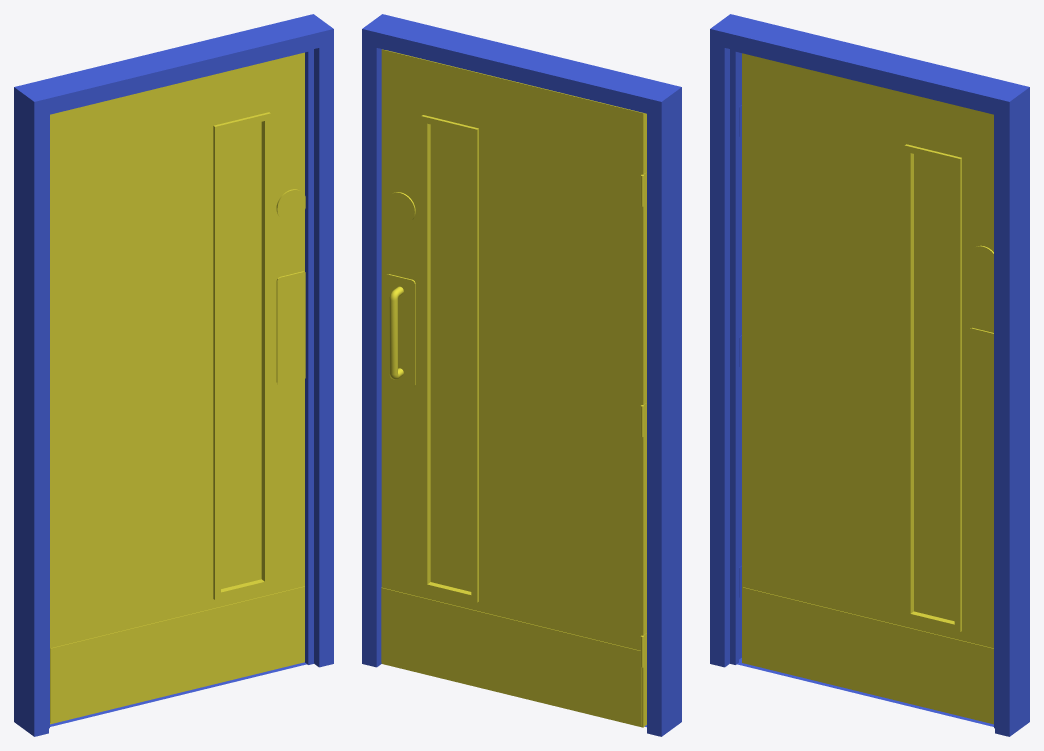
Rendered from Office Door.fbx.
The picture shows the model from 3 angles, left to right: view 1: azimuth 30°, elevation 25°; view 2: azimuth 150°, elevation 25°; view 3: azimuth 330°, elevation 25°; orthographic projection.
Parts seen in each view (by area): view 1: SM Office Door; view 2: SM Office Door; view 3: SM Office Door.
Part boxes in pixels (left/top/right/bottom): SM Office Door: left=14, top=14, right=333, bottom=736; SM Office Door: left=362, top=14, right=681, bottom=736; SM Office Door: left=710, top=14, right=1029, bottom=736.
Size of the model in its own units: 102 by 207 by 14.69.
